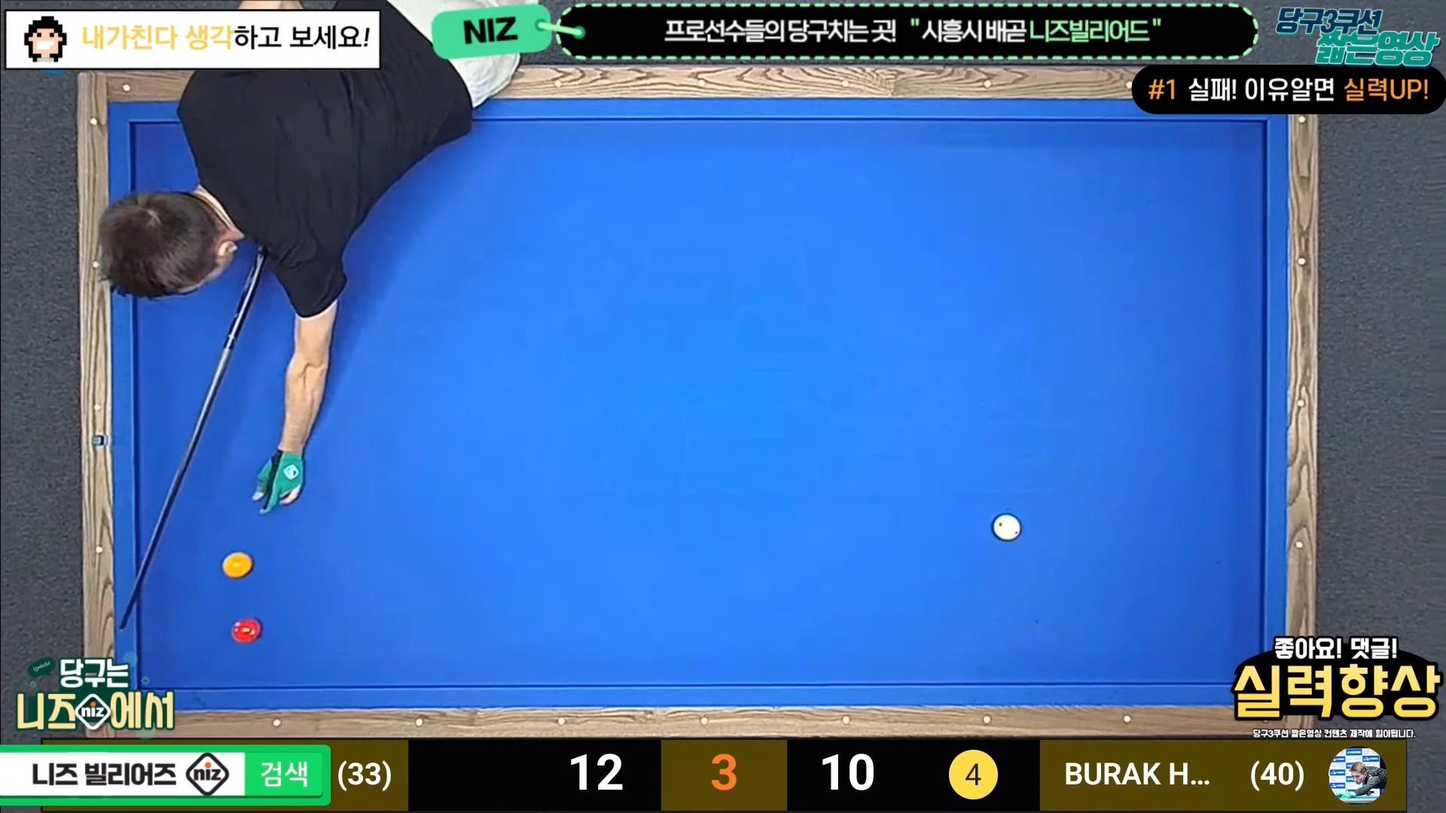-billiard-ball: (991, 513, 1021, 542)
Red: (230, 619, 265, 645)
White: (992, 516, 1027, 543)
Yellow: (221, 554, 257, 581)
